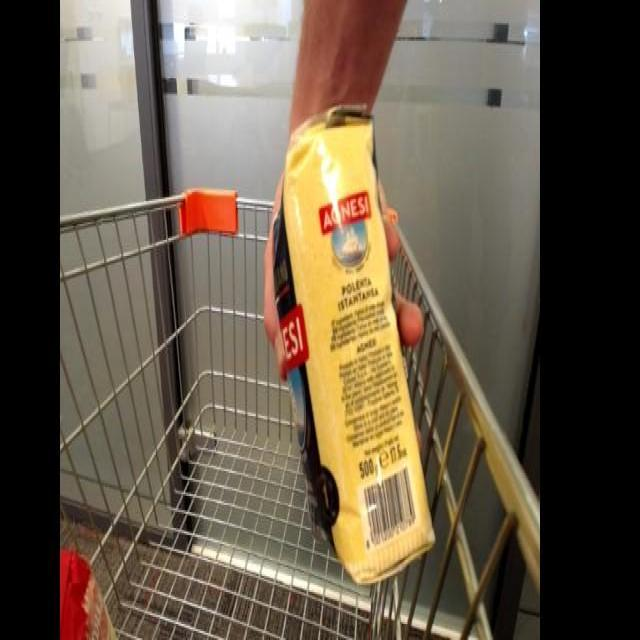Agnesi Polenta: (258, 101, 454, 587)
